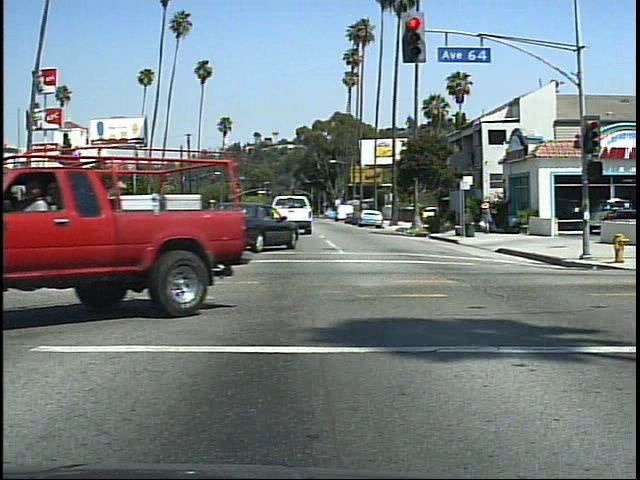person: (27, 175, 70, 316), (477, 199, 500, 238)
